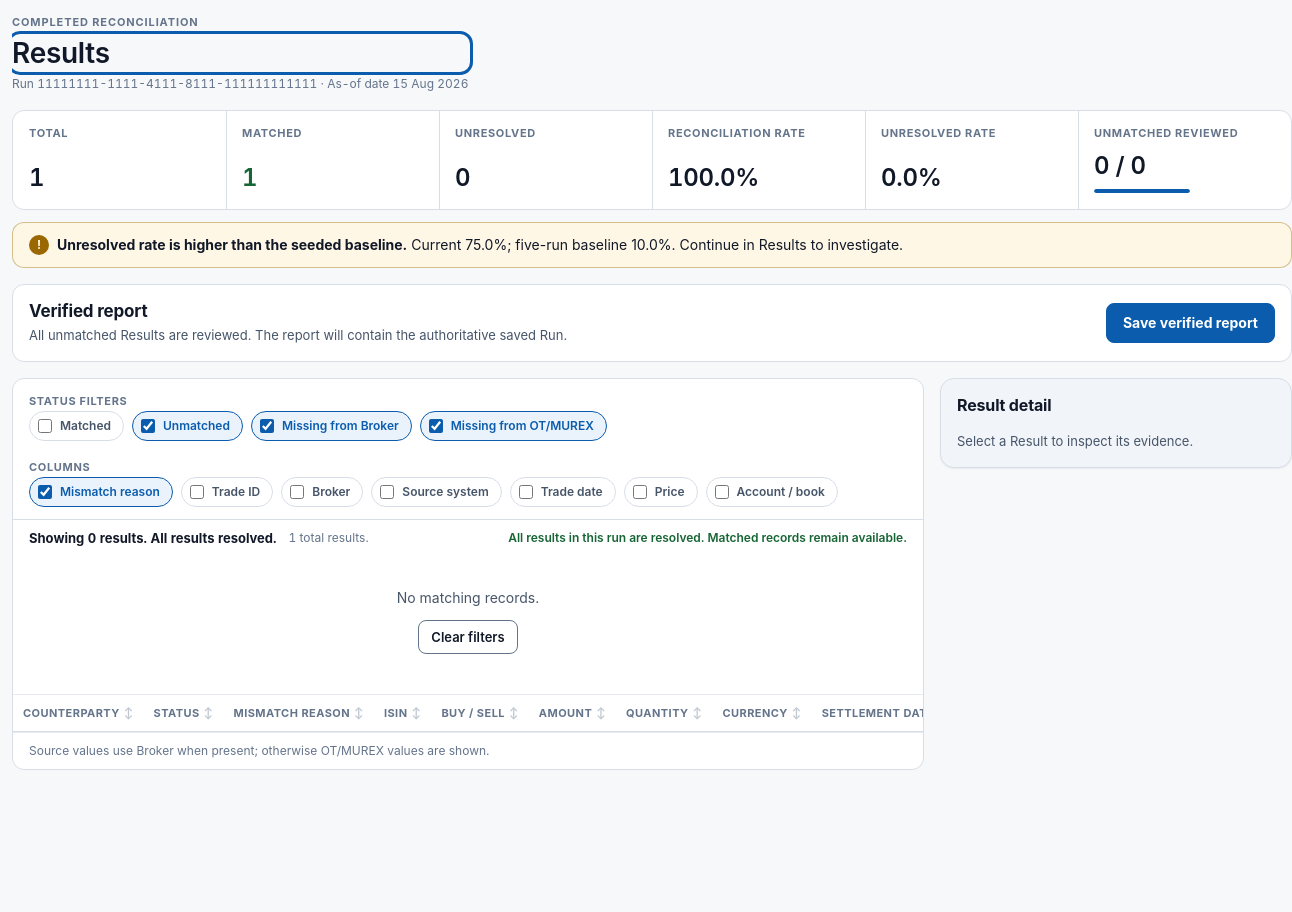
Test: Results workspace table › retains summary and controls for an all-resolved run
Expected: the text "Showing 0 results. All results resolved." is shown, x1=29 y1=528 x2=276 y2=548
Expected: the text "All results in this run are resolved. Matched records remain available." is shown, x1=508 y1=528 x2=907 y2=548
Click the checkbox labelled "Matched": coordinates (45, 426) x1=38 y1=419 x2=52 y2=433
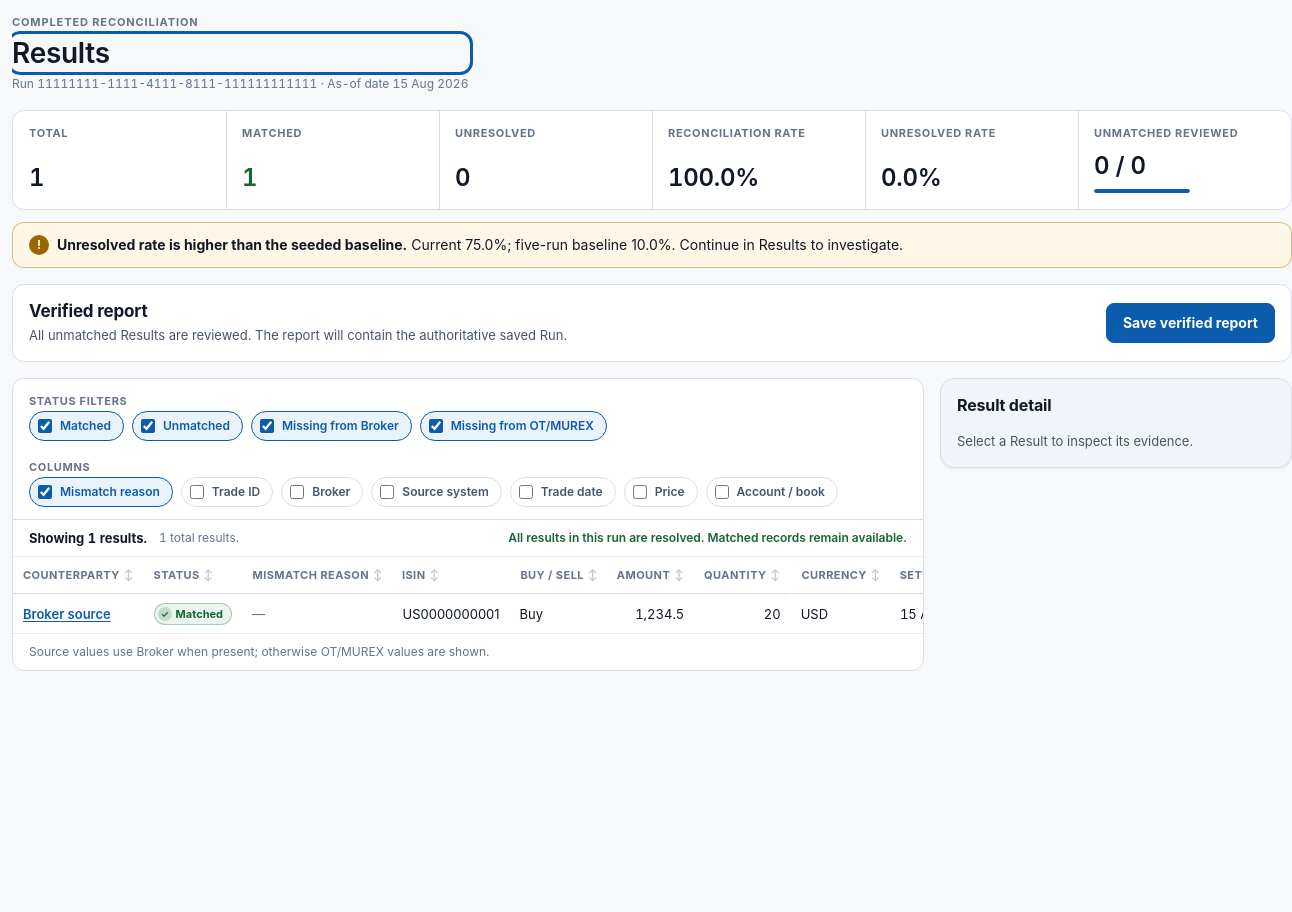
Now the text "Showing 1 results." is shown, box x1=29 y1=528 x2=147 y2=548
